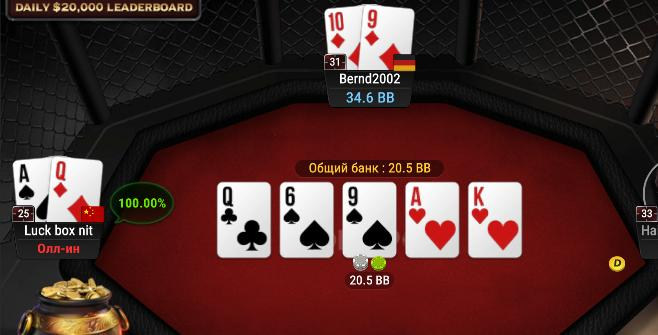10d: (323, 5, 361, 72)
6s: (281, 183, 333, 256)
9d: (362, 5, 414, 70)
9s: (343, 183, 396, 257)
Ah: (406, 183, 460, 258)
As: (13, 155, 50, 223)
Kh: (469, 183, 521, 257)
Qc: (218, 182, 271, 255)
Qd: (50, 155, 103, 222)
